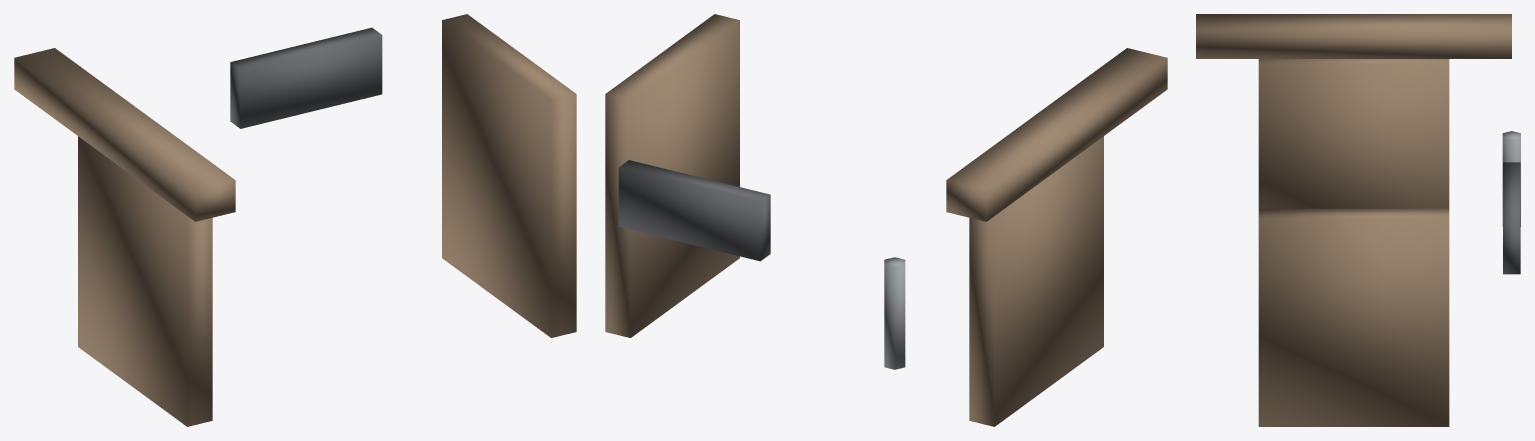
File: luggage_rack__service.glb
3 views of the same model, side by side, from view 1: azimuth 30°, elevation 25°; view 2: azimuth 150°, elevation 25°; view 3: azimuth 270°, elevation 25° (orthographic). The views are drawn at different scales.
Visible parts, largest first — view 1: world; view 2: world; view 3: world.
Boxes of the visible parts, x1,y1,x2,y2 form: world: (14,14,576,426); world: (605,14,1167,426); world: (1196,14,1520,426).
Bounding box in the file's own units: 0.825 × 0.51 × 0.6379.
